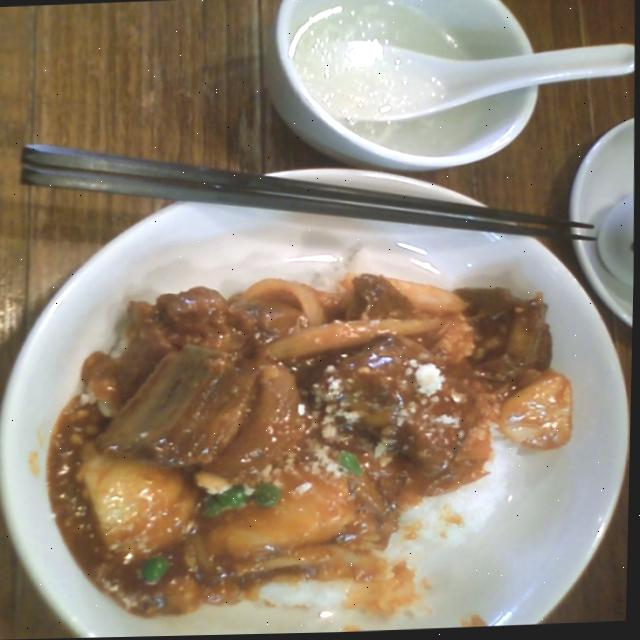汤锅炖物: (293, 0, 500, 167)
